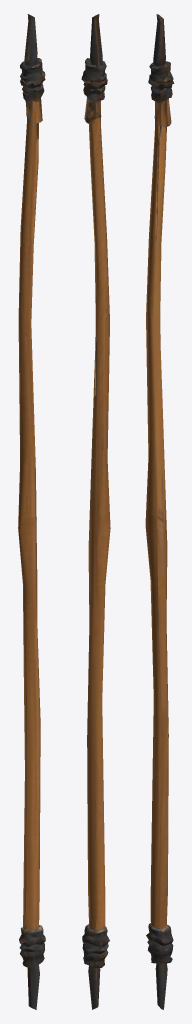
The model's file is gear_roman_cavalry_lance_1.glb.
3 renders of one model, left to right at view 1: azimuth 30°, elevation 25°; view 2: azimuth 150°, elevation 25°; view 3: azimuth 330°, elevation 25°, orthographic.
Parts seen in each view (by area): view 1: MeshyGear_gear_roman_cavalry_lance; view 2: MeshyGear_gear_roman_cavalry_lance; view 3: MeshyGear_gear_roman_cavalry_lance.
Boxes of the visible parts, box(x1,y1,x2,y2) form: MeshyGear_gear_roman_cavalry_lance: box(18, 14, 45, 1009); MeshyGear_gear_roman_cavalry_lance: box(81, 14, 110, 1009); MeshyGear_gear_roman_cavalry_lance: box(145, 14, 174, 1009).
Bounding box in the file's own units: 0.0643 × 2.29 × 0.0491.
Materials: 1 (1 with a texture image).
